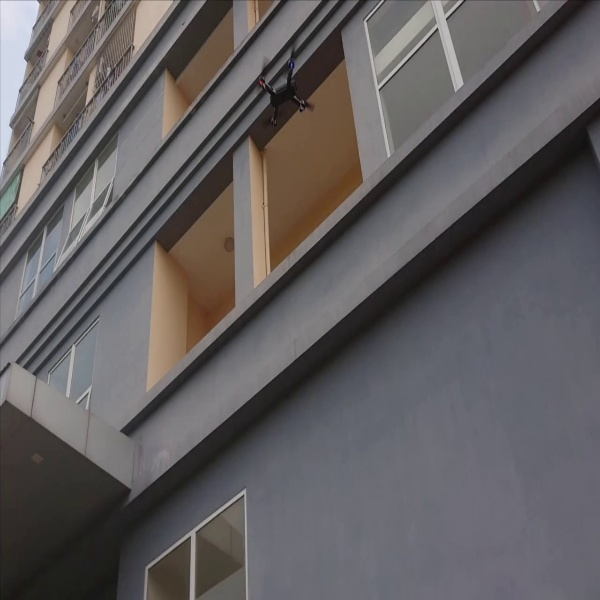drone: (250, 36, 322, 134)
